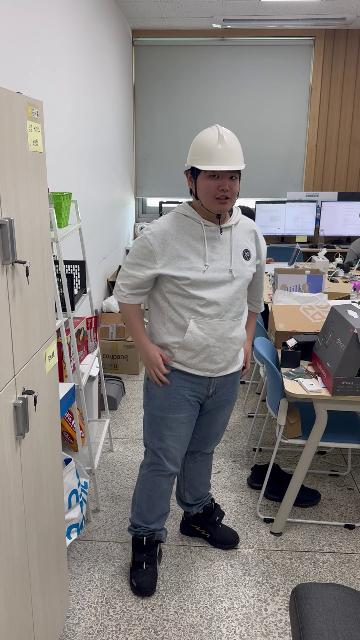helmet_worn: (182, 125, 247, 173)
shoe_not_worn: (248, 463, 319, 505), (247, 461, 283, 490)
shoe_worn: (180, 498, 240, 549), (129, 534, 163, 597)
vest_not_worn: (147, 207, 252, 386)
